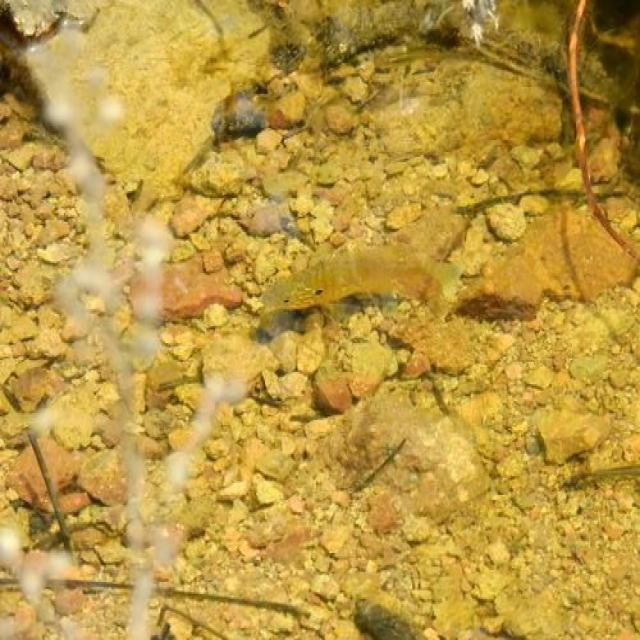Gunes Levregi: (262, 247, 469, 331)
